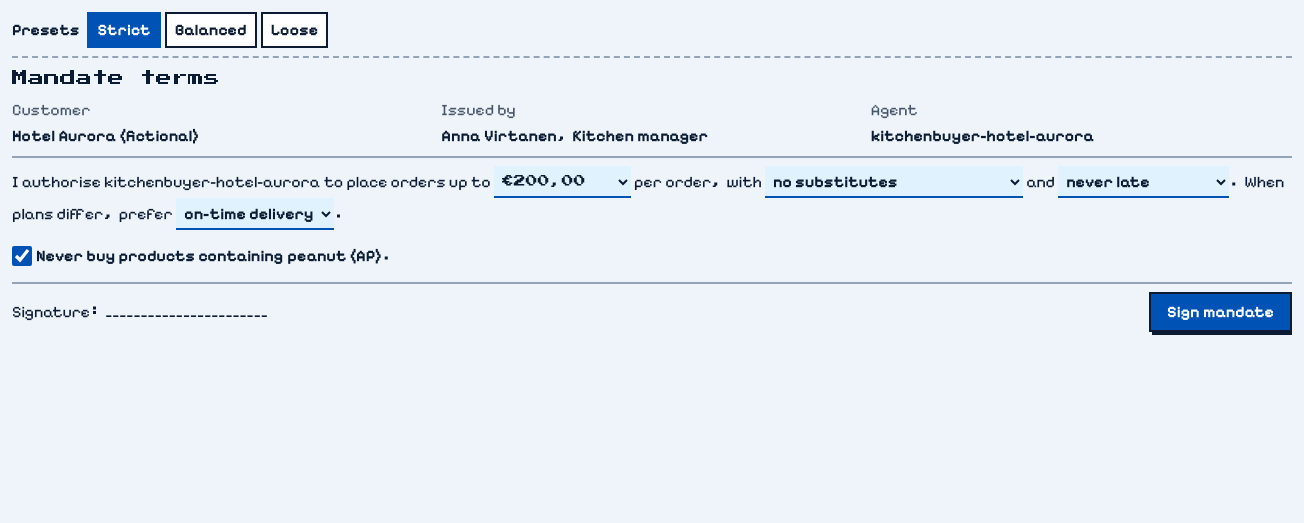
Test: mandate screen › renders the exact recorded summary after signing every level one preset
Later steps or results of the test are not shown.
What coordinates should you click on to do the following:
click the button "Strict"
I would click on:
 (124, 30)
Its box is 87,12 -> 161,48.
What coordinates should you click on to do the following:
click the button "Sign mandate"
I would click on:
 (1221, 312)
Its box is 1149,292 -> 1292,332.
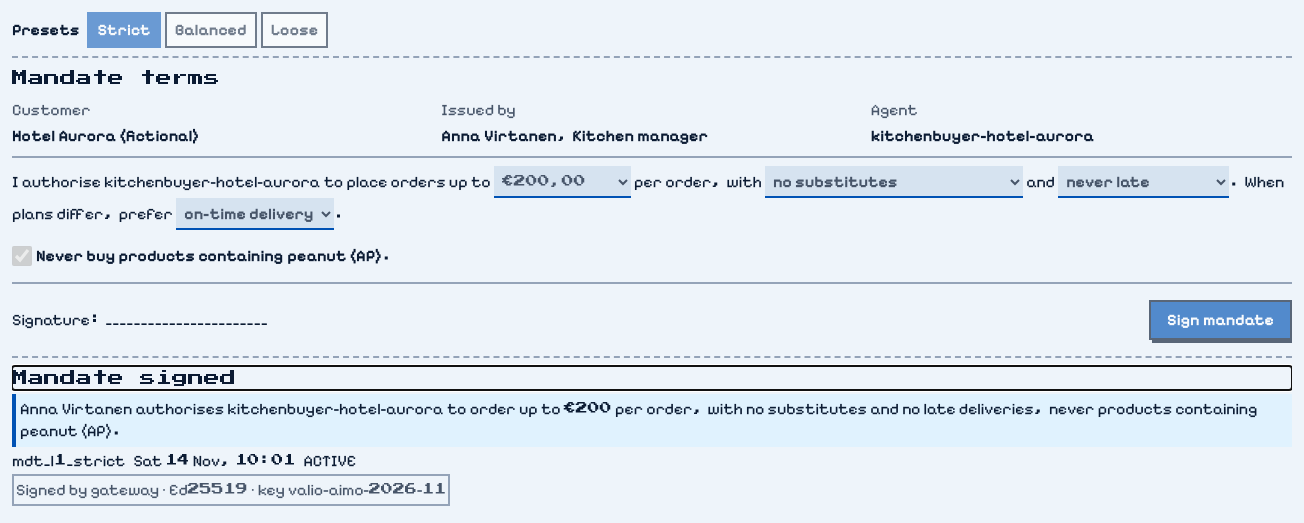
Check: the text "Anna Virtanen authorises kitchenbuyer-hotel-aurora to order up to €200 per order, with no substitutes and no late delive" is shown, box 20,399 -> 1257,440
